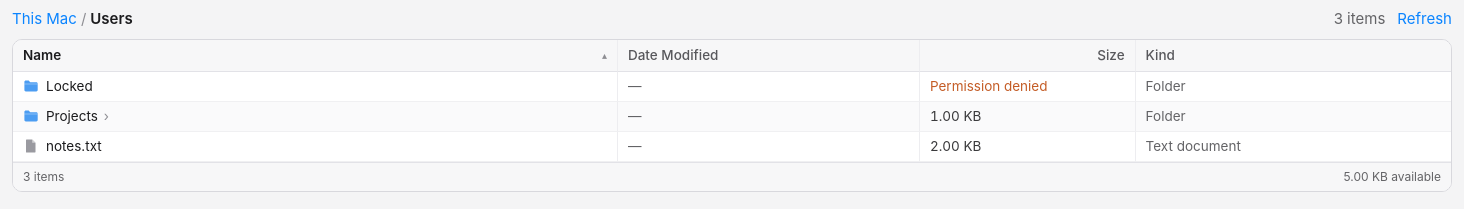
Test: BrowseView › selects a row and opens folders on double-click or Enter
This screenshot has width=1464, height=209.
Later steps or results of the test are not shown.
Click the text "Projects" at (732, 117), box x1=13 y1=102 x2=1451 y2=132
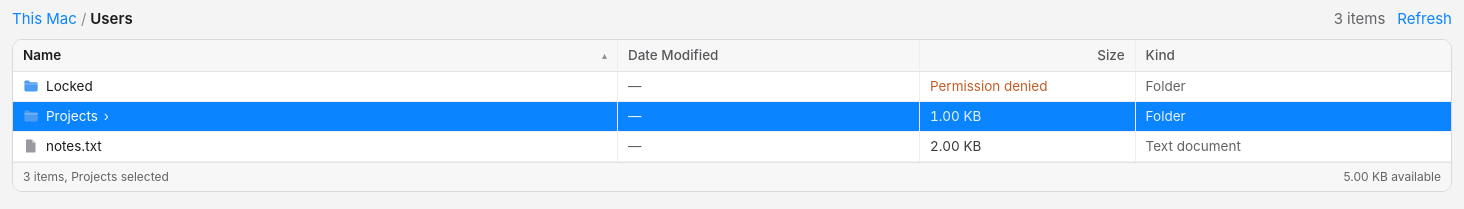
Expected: the text "3 items, Projects selected" is shown, x1=23 y1=169 x2=169 y2=185
